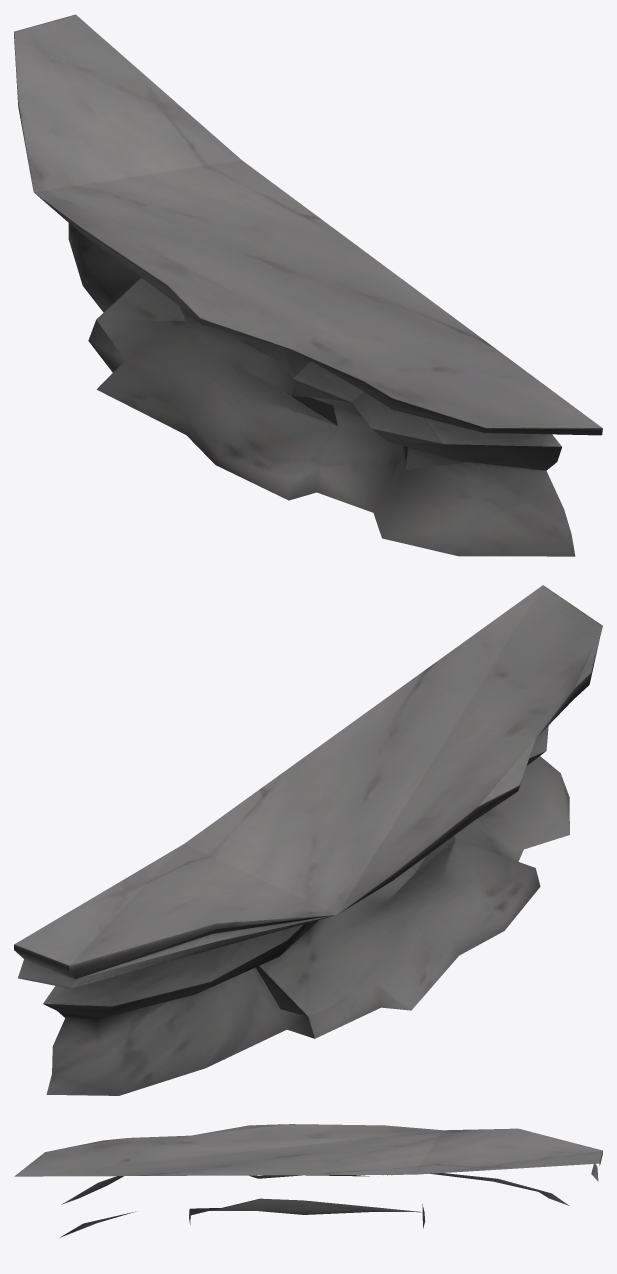
3 views of the same model, one above another, from view 1: azimuth 30°, elevation 25°; view 2: azimuth 150°, elevation 25°; view 3: azimuth 270°, elevation 25° (orthographic). The views are drawn at different scales.
Parts seen in each view (by area): view 1: body0_model0_lod0_mesh0; view 2: body0_model0_lod0_mesh0; view 3: body0_model0_lod0_mesh0.
Part boxes in pixels (box(x1,y1,x2,y2)): body0_model0_lod0_mesh0: box(14, 14, 602, 556); body0_model0_lod0_mesh0: box(14, 585, 602, 1095); body0_model0_lod0_mesh0: box(14, 1124, 602, 1237).
Bounding box in the file's own units: 133 × 116 × 637.
1 material, 1 textured.
